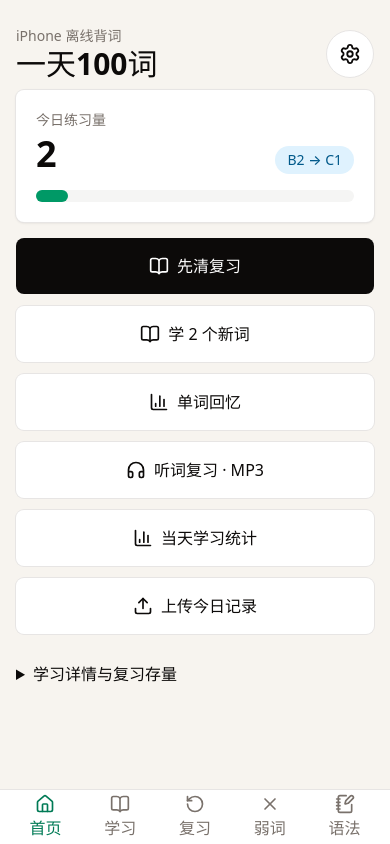
Test case: actual session navigation › ignores the legacy advanced setting and uses the same reveal flow for weak words
Click the button "弱词" at (270, 817), box [232, 794, 307, 840]
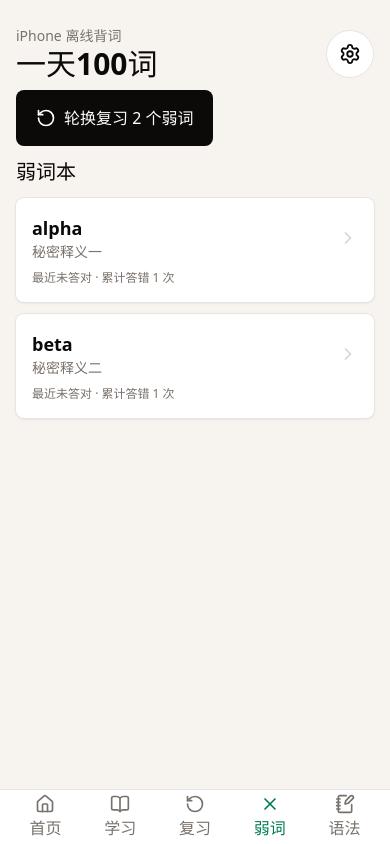
Check: the button "轮换复习 2 个弱词" is shown
Click the button "轮换复习 2 个弱词" at (115, 118), box [16, 90, 214, 146]
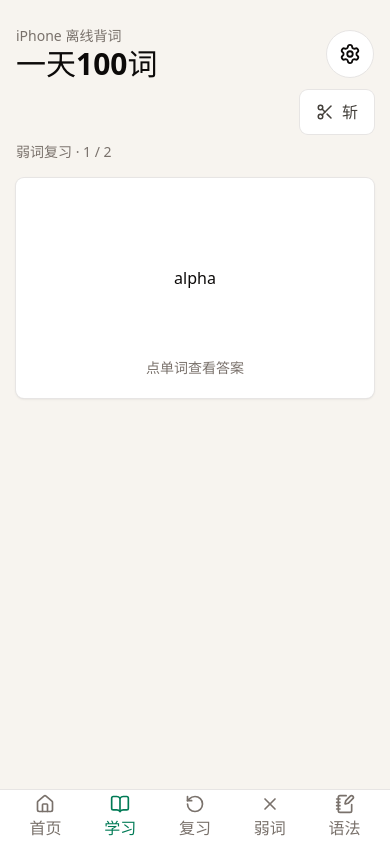
Check: the element named "单词回忆" is shown, box [16, 142, 374, 398]
Check: the element named "单词回忆" shows "alpha"
Check: the button named "单词回忆" no longer shows "秘密释义一"
Click the button "alpha" at (195, 278), box [36, 198, 354, 358]
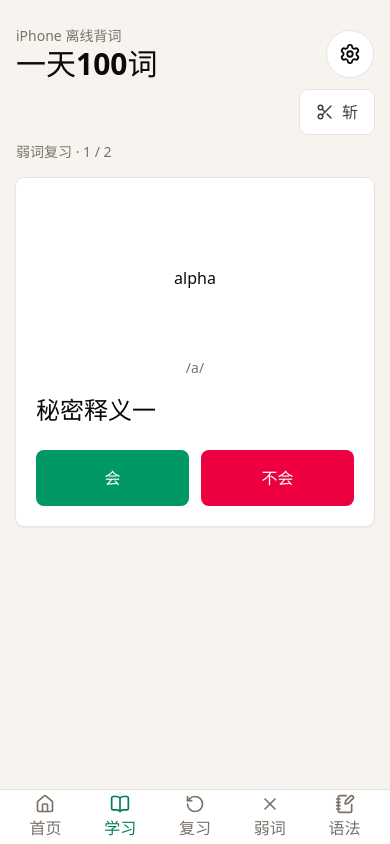
Check: the button "不会" is shown
Click the button "不会" at (278, 478), box [201, 450, 354, 506]
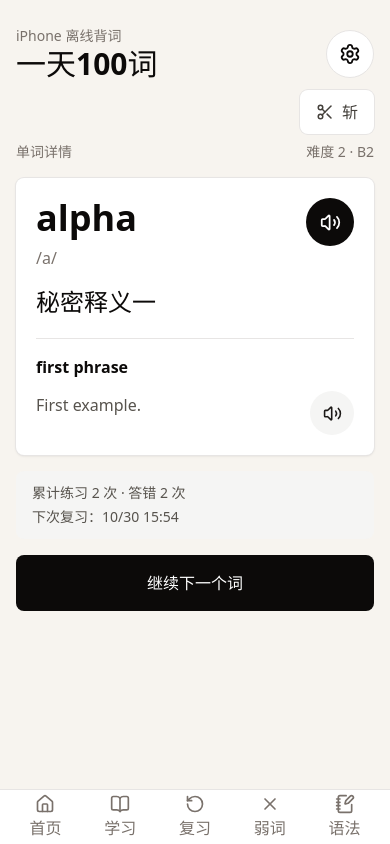
Check: the heading "alpha" is shown, box [36, 198, 137, 238]
Check: the button "继续下一个词" is shown
Click the button "继续下一个词" at (195, 583), box [16, 555, 374, 611]
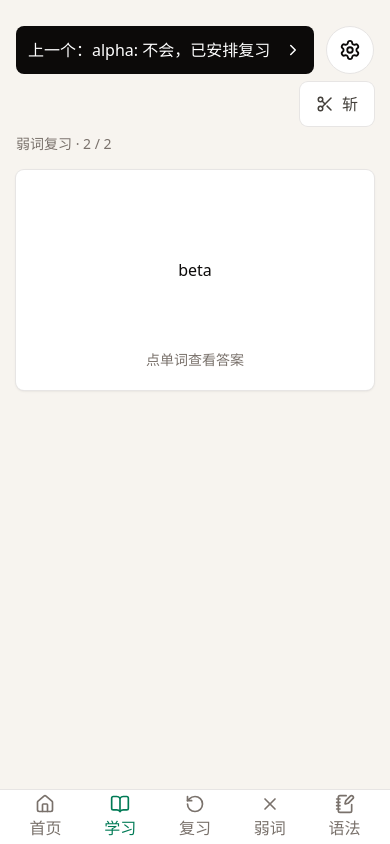
Check: the button named "单词回忆" does not show "秘密释义二"
Check: the element named "单词回忆" is shown, box [16, 134, 374, 390]
Check: the element named "单词回忆" shows "beta", box [36, 190, 354, 350]
